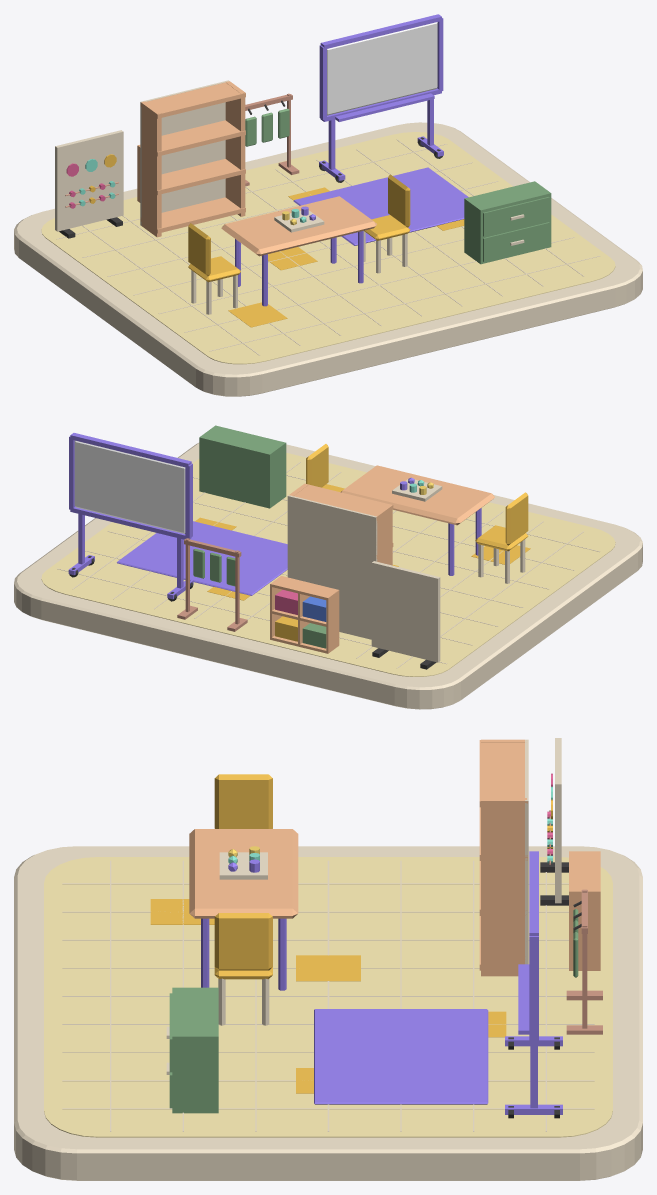
Rendered from room.fbx.
3 renders of one model, top to bottom at view 1: azimuth 30°, elevation 25°; view 2: azimuth 150°, elevation 25°; view 3: azimuth 270°, elevation 25°, orthographic. The views are drawn at different scales.
Visible parts, largest first — view 1: COM-02 Floor Surface, COM-01 Rounded Base Direct, Writing surface, Cabinet, Panel, Rug, Rounded table top, Back, Side, Side.001, Shelf.003, Shelf (+13 smaller); view 2: COM-02 Floor Surface, COM-01 Rounded Base Direct, Back, Writing surface, Panel, Cabinet, Rug, Rounded table top, Shelf.003, Frame rail.001, Backrest, Backrest.001 (+13 smaller); view 3: COM-02 Floor Surface, COM-01 Rounded Base Direct, Rug, Rounded table top, Side.001, Cabinet, Backrest.001, Backrest, Shelf.003, Cubbies divider.002, Geometric color tile.001, Cubbies shelf.002 (+12 smaller).
Boxes of the visible parts, <box> form: COM-02 Floor Surface: <box>41,132,615,364</box>; COM-01 Rounded Base Direct: <box>14,122,642,396</box>; Writing surface: <box>327,22,437,115</box>; Cabinet: <box>464,181,551,264</box>; Panel: <box>55,130,123,231</box>; Rug: <box>293,167,468,245</box>; Rounded table top: <box>221,196,376,256</box>; Back: <box>140,80,229,225</box>; Side: <box>141,101,161,237</box>; Side.001: <box>225,81,245,216</box>; Shelf.003: <box>140,82,245,118</box>; Shelf: <box>140,197,245,233</box>; COM-02 Floor Surface: <box>41,453,615,676</box>; COM-01 Rounded Base Direct: <box>14,443,642,709</box>; Back: <box>287,495,377,639</box>; Writing surface: <box>74,440,185,533</box>; Panel: <box>371,561,440,662</box>; Cabinet: <box>199,425,286,508</box>; Rug: <box>117,521,287,595</box>; Rounded table top: <box>340,465,494,525</box>; Shelf.003: <box>294,483,393,520</box>; Frame rail.001: <box>70,433,191,467</box>; Backrest: <box>505,492,528,545</box>; Backrest.001: <box>306,444,328,487</box>; COM-02 Floor Surface: <box>44,857,612,1137</box>; COM-01 Rounded Base Direct: <box>14,846,642,1180</box>; Rug: <box>314,1009,488,1104</box>; Rounded table top: <box>189,829,298,918</box>; Side.001: <box>481,798,526,976</box>; Cabinet: <box>166,987,218,1113</box>; Backrest.001: <box>214,913,272,970</box>; Backrest: <box>214,774,272,828</box>; Shelf.003: <box>479,740,527,807</box>; Cubbies divider.002: <box>569,892,600,970</box>; Geometric color tile.001: <box>296,955,360,981</box>; Cubbies shelf.002: <box>569,851,600,891</box>.
Bounding box in the file's own units: 600 × 204 × 520.
